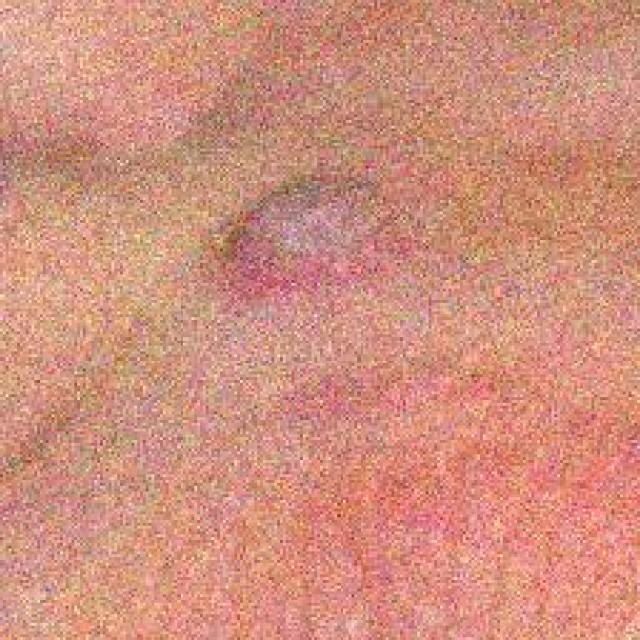monkeypox: (36, 20, 528, 612)
